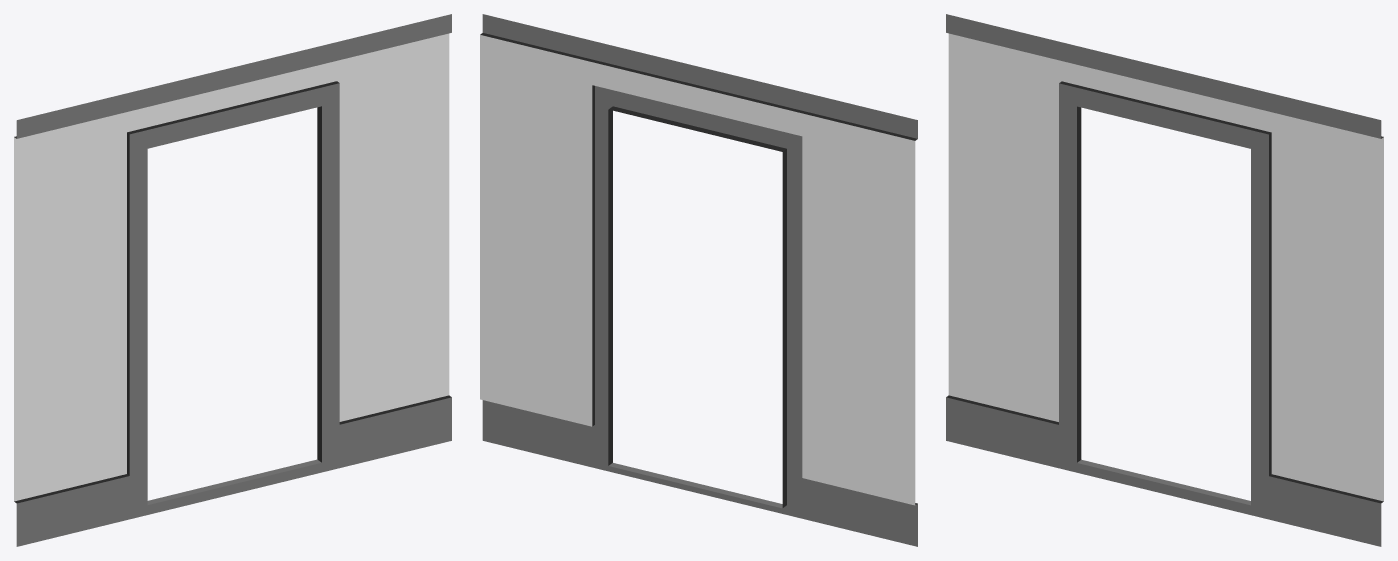
Rendered from WallDoorSmall1.glb.
The picture shows the model from 3 angles, left to right: view 1: azimuth 30°, elevation 25°; view 2: azimuth 150°, elevation 25°; view 3: azimuth 330°, elevation 25°; orthographic projection.
Visible parts, largest first — view 1: SI_Env_Wall_Door_Small_01; view 2: SI_Env_Wall_Door_Small_01; view 3: SI_Env_Wall_Door_Small_01.
Part boxes in pixels (bbox=[...]): SI_Env_Wall_Door_Small_01: bbox=[14, 14, 451, 546]; SI_Env_Wall_Door_Small_01: bbox=[480, 14, 917, 546]; SI_Env_Wall_Door_Small_01: bbox=[946, 14, 1383, 546].
Bounding box in the file's own units: 0.05 × 0.0469 × 0.000885.
Materials: 1 (1 with a texture image).
